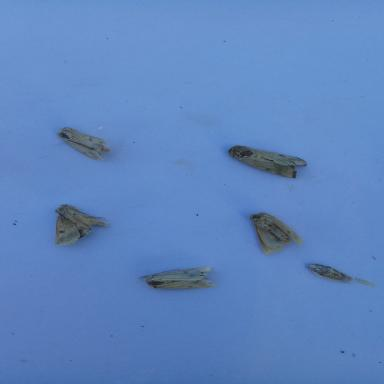abw: (223, 142, 314, 182), (42, 198, 114, 248), (240, 208, 308, 258), (50, 122, 117, 163), (132, 262, 222, 291)
